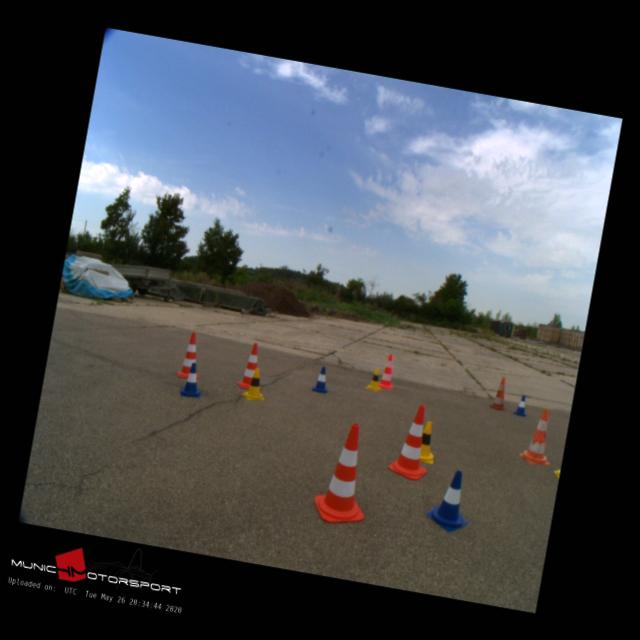blue_cone: (424, 466, 476, 533), (179, 361, 205, 396), (311, 364, 330, 393), (512, 393, 528, 414)
large_orange_cone: (310, 418, 379, 526), (386, 400, 436, 480), (518, 406, 558, 464), (236, 340, 268, 390), (176, 331, 205, 378), (488, 374, 511, 412), (377, 353, 398, 389)
yellow_cone: (412, 419, 438, 463), (240, 366, 268, 402), (365, 366, 384, 390)
